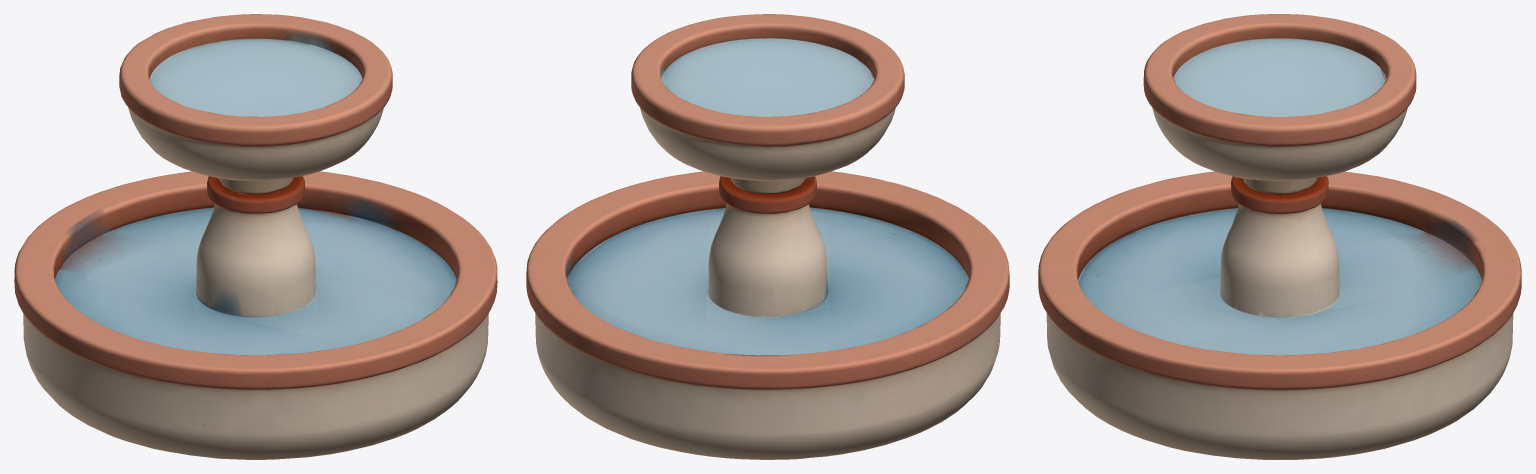
Rendered from air-mancur.glb.
3 renders of one model, left to right at view 1: azimuth 30°, elevation 25°; view 2: azimuth 150°, elevation 25°; view 3: azimuth 270°, elevation 25°, orthographic.
Parts seen in each view (by area): view 1: AirMancurBatu, Air; view 2: AirMancurBatu, Air; view 3: AirMancurBatu, Air.
Boxes of the visible parts, left/top/right/bottom form: AirMancurBatu: left=14, top=14, right=497, bottom=459; Air: left=55, top=39, right=456, bottom=355; AirMancurBatu: left=526, top=14, right=1009, bottom=459; Air: left=567, top=38, right=968, bottom=355; AirMancurBatu: left=1038, top=14, right=1521, bottom=459; Air: left=1078, top=38, right=1481, bottom=355.
Size of the model in its own units: 3.05 by 2.1 by 3.05.
Materials: 2 (2 with a texture image).
